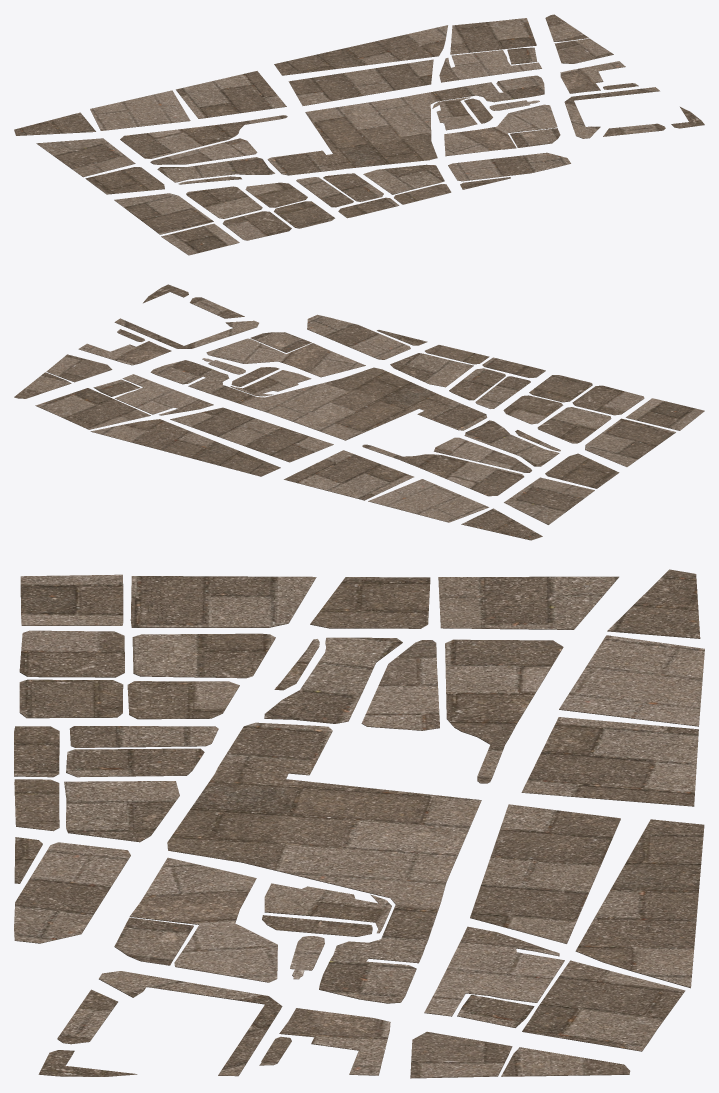
File: TaipeiStationSepratedSideWalk.fbx
3 views of the same model, one above another, from view 1: azimuth 30°, elevation 25°; view 2: azimuth 150°, elevation 25°; view 3: azimuth 270°, elevation 25° (orthographic). The views are drawn at different scales.
Parts seen in each view (by area): view 1: Sidewalk.020, Sidewalk.031, Sidewalk.030, Sidewalk.032, Sidewalk.014, Sidewalk.033, Sidewalk.039, Sidewalk.028, Sidewalk.002, Sidewalk.038, Sidewalk.013, Sidewalk.027 (+22 smaller); view 2: Sidewalk.020, Sidewalk.031, Sidewalk.030, Sidewalk.032, Sidewalk.014, Sidewalk.033, Sidewalk.039, Sidewalk.028, Sidewalk.002, Sidewalk.038, Sidewalk.013, Sidewalk.027 (+23 smaller); view 3: Sidewalk.020, Sidewalk.031, Sidewalk.030, Sidewalk.032, Sidewalk.014, Sidewalk.039, Sidewalk.033, Sidewalk.028, Sidewalk.002, Sidewalk.038, Sidewalk.013, Sidewalk.027 (+26 smaller).
Boxes of the visible parts, box(x1,y1,x2,y2) form: Sidewalk.020: box(267, 75, 544, 175); Sidewalk.031: box(274, 25, 447, 75); Sidewalk.030: box(288, 59, 433, 105); Sidewalk.032: box(176, 71, 286, 118); Sidewalk.014: box(444, 104, 557, 156); Sidewalk.033: box(120, 115, 287, 158); Sidewalk.039: box(90, 90, 190, 130); Sidewalk.028: box(450, 18, 536, 54); Sidewalk.002: box(114, 193, 213, 234); Sidewalk.038: box(36, 138, 135, 177); Sidewalk.013: box(448, 152, 570, 181); Sidewalk.027: box(439, 50, 541, 82); Sidewalk.020: box(150, 360, 487, 440); Sidewalk.031: box(90, 419, 280, 476); Sidewalk.030: box(170, 407, 333, 462); Sidewalk.032: box(284, 450, 413, 500); Sidewalk.014: box(206, 338, 365, 377); Sidewalk.033: box(362, 444, 524, 496); Sidewalk.039: box(368, 479, 488, 522); Sidewalk.028: box(35, 388, 150, 429); Sidewalk.002: box(585, 418, 675, 466); Sidewalk.038: box(504, 477, 594, 524); Sidewalk.013: box(307, 314, 410, 359); Sidewalk.027: box(115, 374, 213, 415); Sidewalk.020: box(167, 722, 481, 1003); Sidewalk.031: box(575, 819, 704, 988); Sidewalk.030: box(470, 804, 620, 943); Sidewalk.032: box(521, 717, 698, 806); Sidewalk.014: box(129, 857, 277, 982); Sidewalk.039: box(559, 635, 704, 726); Sidewalk.033: box(445, 639, 563, 783); Sidewalk.028: box(522, 960, 685, 1051); Sidewalk.002: box(130, 576, 316, 627); Sidewalk.038: box(438, 576, 618, 629); Sidewalk.013: box(14, 842, 130, 943); Sidewalk.027: box(424, 926, 564, 1016).
Bounding box in the file's own units: 1094 × 0.5944 × 629.
